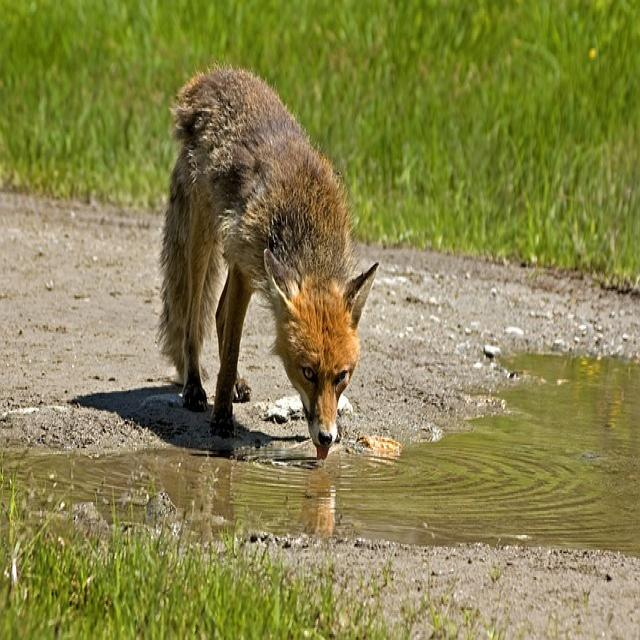Carnivorous: (159, 67, 378, 463)
